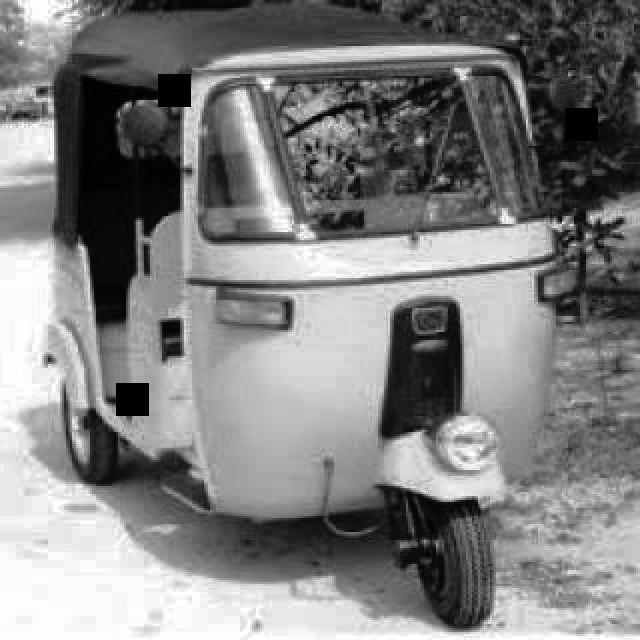Auto-Rickshaw: (34, 14, 590, 610)
